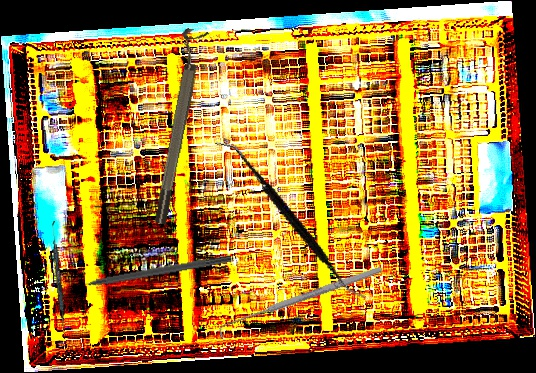Fixation Ring: (142, 27, 211, 226)
Hook Surgical: (214, 263, 387, 340), (68, 252, 232, 292)
Spatula Surgical: (182, 139, 400, 302), (48, 220, 69, 334)
